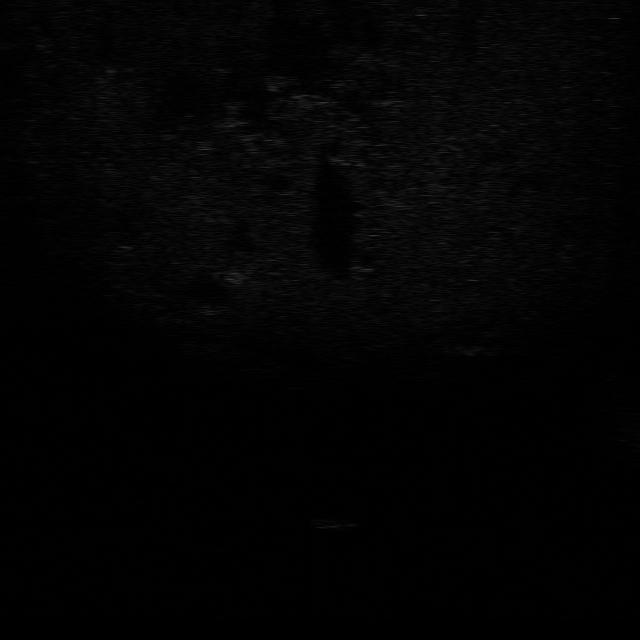cube: (310, 517, 358, 530)
square cage: (448, 342, 498, 358)
